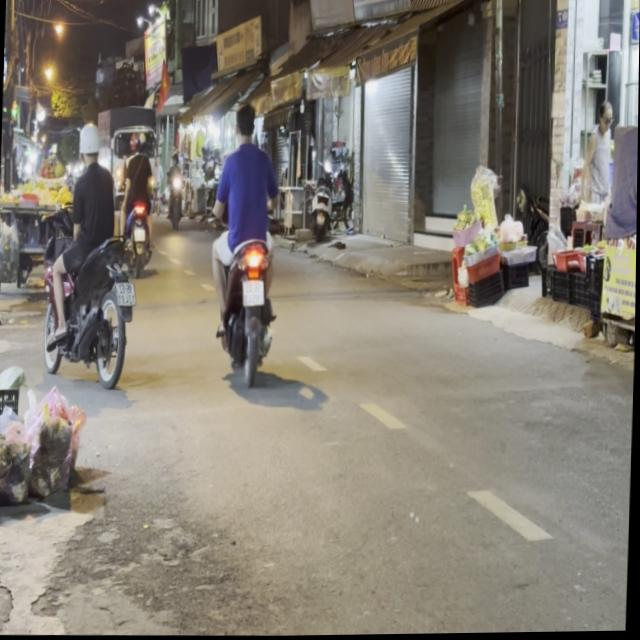helmet: (80, 121, 103, 164)
licenseplate: (42, 116, 141, 389), (208, 101, 287, 385)
motorcyclist: (236, 102, 259, 144)
nohelmet: (244, 279, 265, 305), (115, 280, 136, 304)
